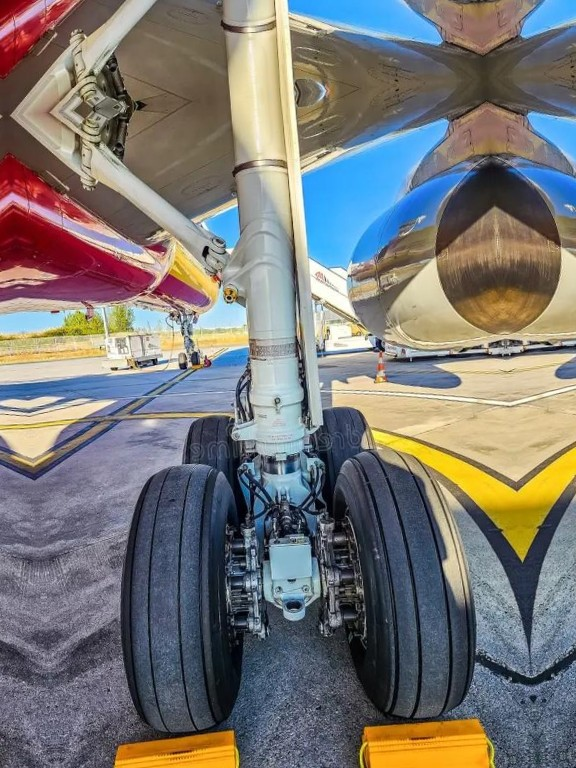chock: (356, 710, 497, 768), (105, 726, 240, 768), (192, 363, 202, 372)
wheel: (328, 443, 481, 722), (109, 461, 254, 735), (177, 412, 248, 523), (313, 403, 378, 504), (178, 352, 189, 369), (191, 351, 201, 366)
